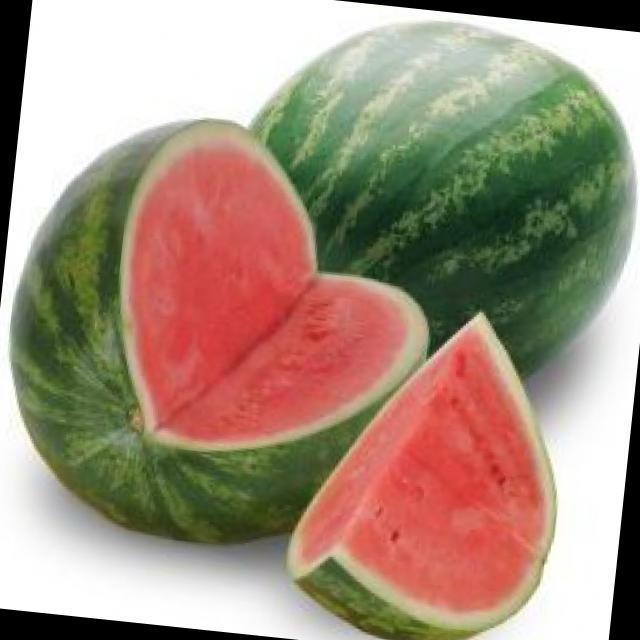WATERMELON: (0, 102, 449, 558), (233, 0, 640, 374), (277, 291, 606, 640)
